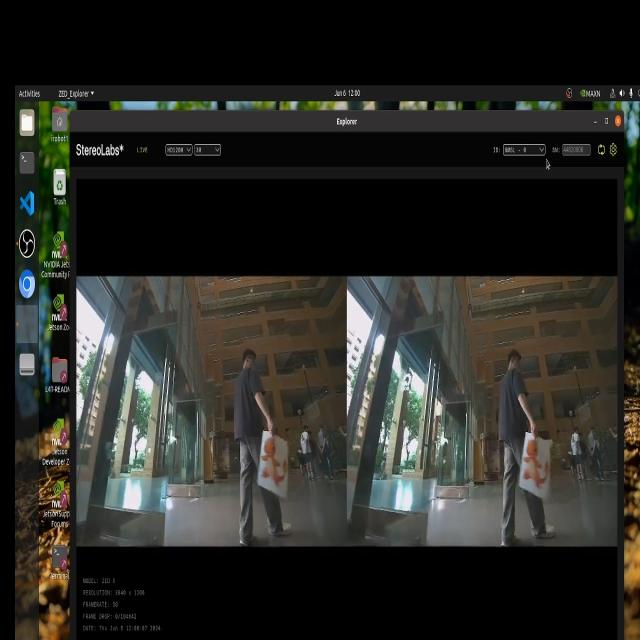red: (261, 434, 291, 500), (525, 441, 545, 482)
